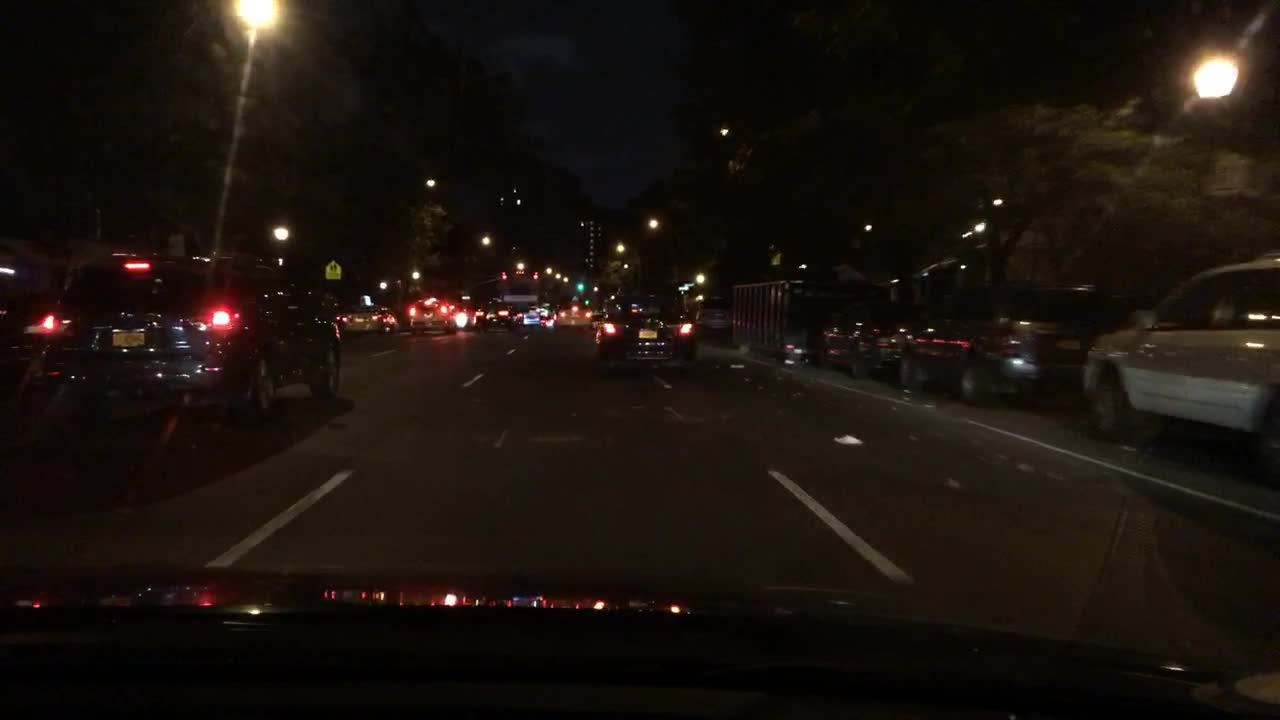car: (37, 255, 342, 458), (1081, 245, 1279, 473), (902, 287, 1139, 407), (594, 292, 693, 374), (825, 310, 903, 376), (405, 299, 456, 336), (337, 305, 395, 333), (694, 297, 731, 337), (481, 300, 513, 331), (554, 304, 586, 329), (456, 305, 476, 328), (587, 309, 603, 330), (522, 309, 537, 329), (540, 309, 554, 326), (515, 311, 523, 325)
traffic light: (500, 269, 509, 284), (577, 279, 585, 293), (534, 268, 541, 283)
traffic sign: (325, 259, 341, 281), (769, 247, 781, 269)
truck: (729, 278, 824, 365)
